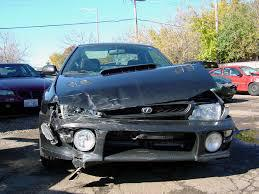Headlight-Damage: (47, 115, 118, 161)
bonnet-dent: (62, 71, 187, 108)
